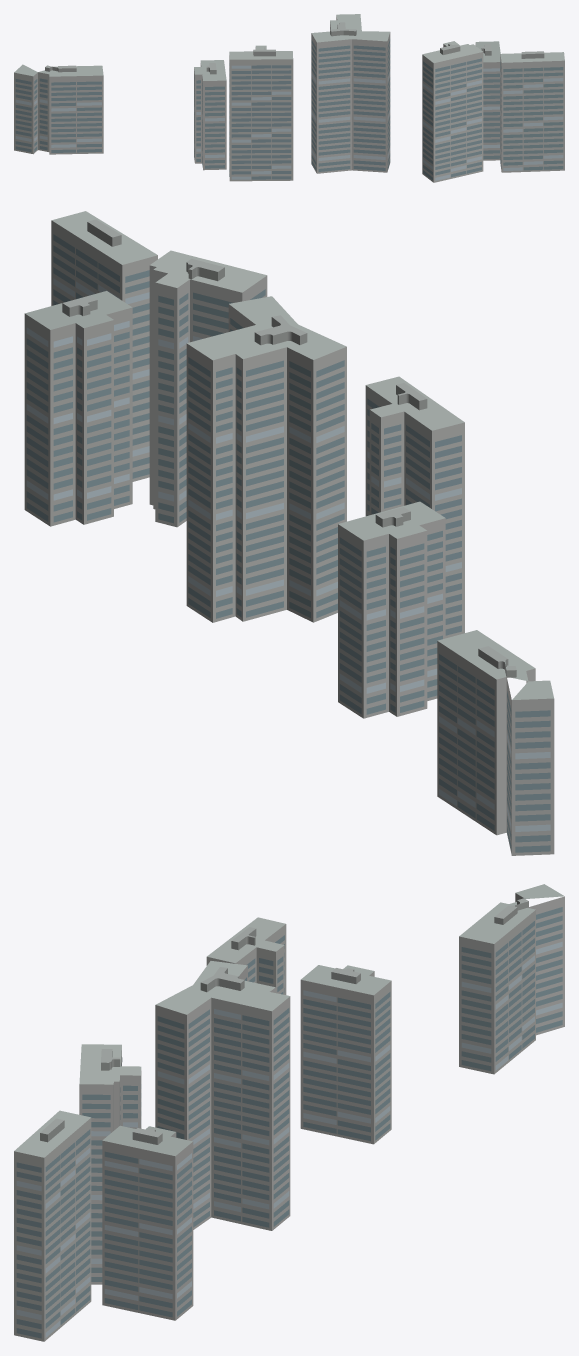
Rendered from apt-a14074101.glb.
3 renders of one model, top to bottom at view 1: azimuth 30°, elevation 25°; view 2: azimuth 150°, elevation 25°; view 3: azimuth 270°, elevation 25°, orthographic. The views are drawn at different scales.
Parts seen in each view (by area): view 1: apt-a14074101; view 2: apt-a14074101; view 3: apt-a14074101.
Boxes of the visible parts, x1=… form: apt-a14074101: x1=14, y1=14, x2=564, y2=182; apt-a14074101: x1=24, y1=211, x2=554, y2=855; apt-a14074101: x1=14, y1=884, x2=564, y2=1341.
Bounding box in the file's own units: 216 × 70 × 154.
